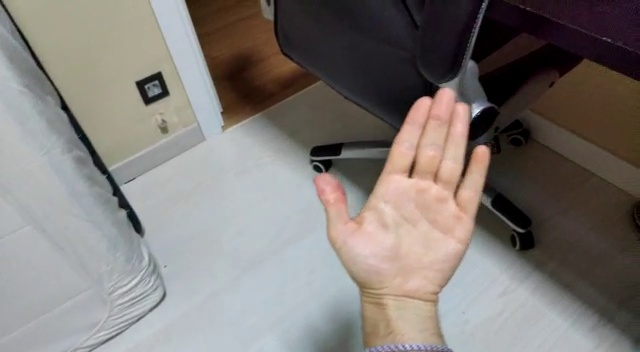Palm: (310, 87, 491, 304)
